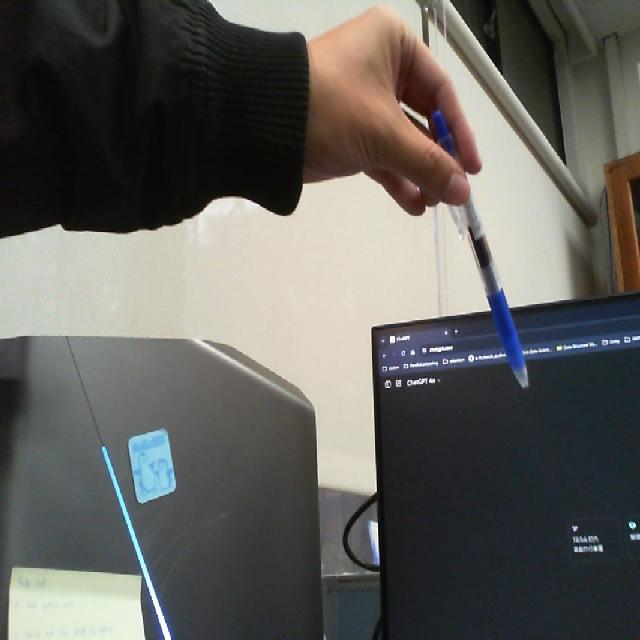Pen: (413, 100, 542, 422)
